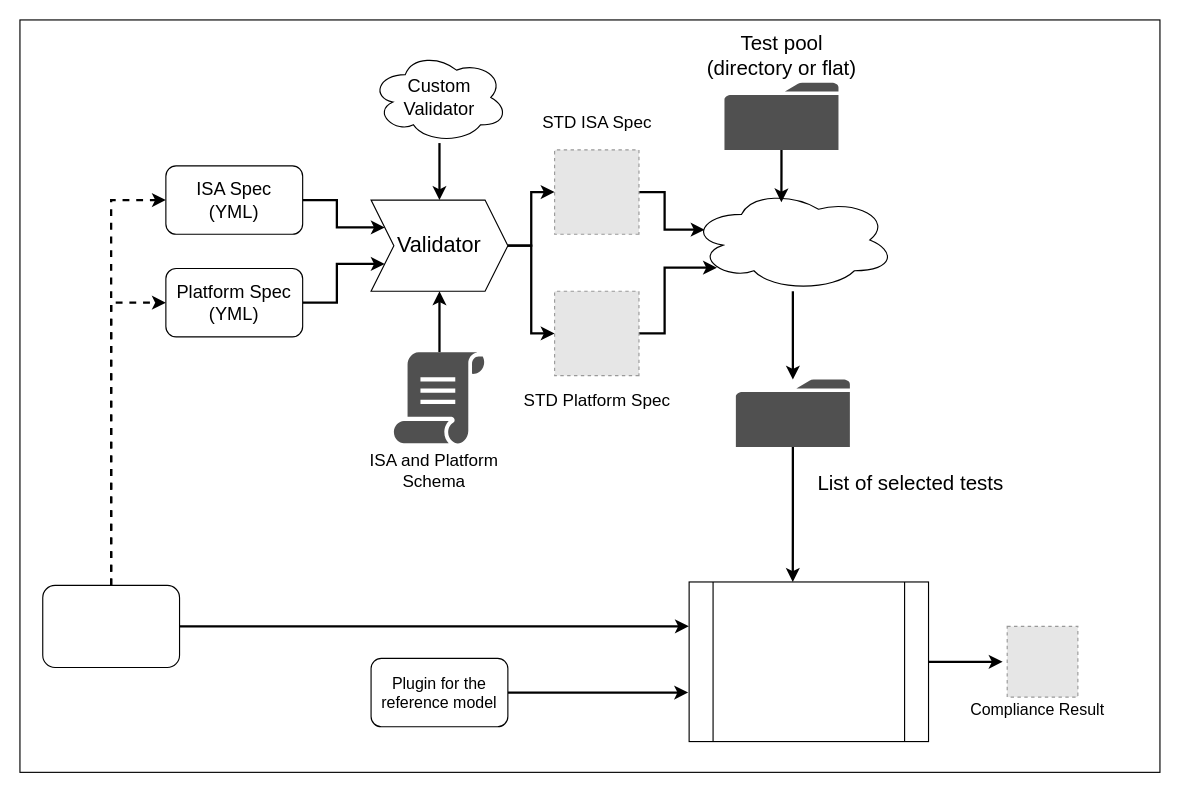
Some shapes in this 1180 by 792 pixel diagram are drawn without their labels. Grey dashed boxes stand in for pictures. Here are the shapes that lost their labels. From the top down, the centre of each, then its label:
(x=792, y=239): Test Selector
(x=111, y=625): Plugin for the DUT.
(x=808, y=661): Python Framework to execute tests and compare signatures
